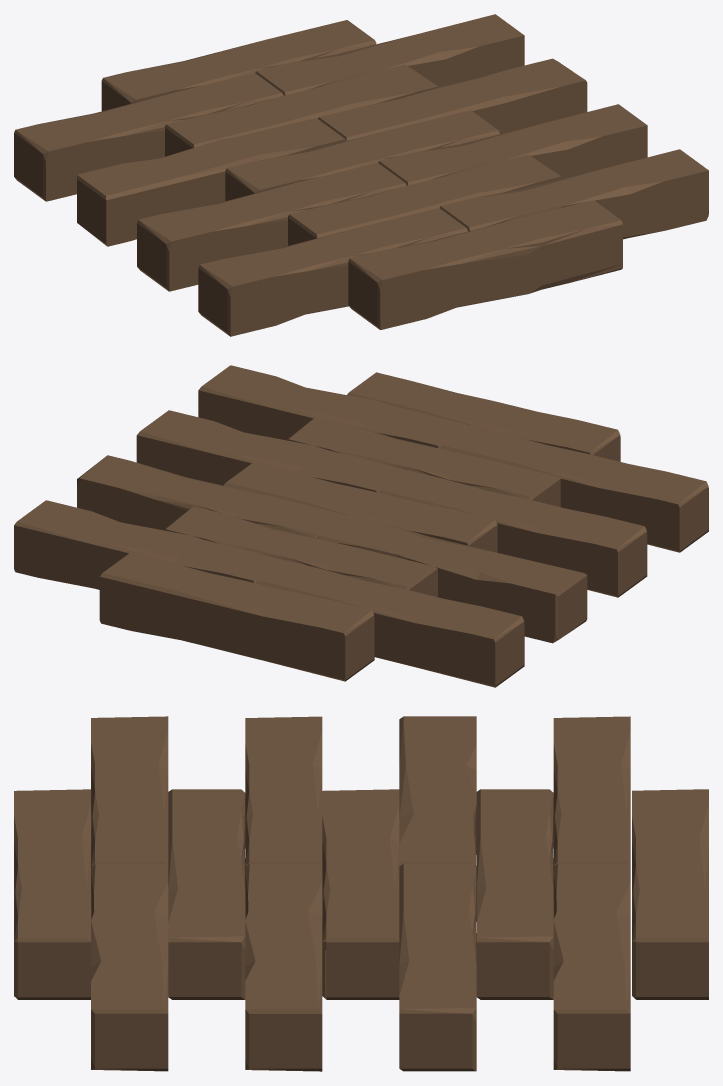
File: PK_Floor_Upper_A.fbx
3 views of the same model, one above another, from view 1: azimuth 30°, elevation 25°; view 2: azimuth 150°, elevation 25°; view 3: azimuth 270°, elevation 25° (orthographic). The views are drawn at different scales.
Parts seen in each view (by area): view 1: PK_Floor_Upper_A; view 2: PK_Floor_Upper_A; view 3: PK_Floor_Upper_A.
Boxes of the visible parts, x1,y1,x2,y2 form: PK_Floor_Upper_A: [14, 14, 708, 336]; PK_Floor_Upper_A: [14, 365, 708, 687]; PK_Floor_Upper_A: [14, 716, 708, 1071].
Bounding box in the file's own units: 200 × 19.7 × 199.
